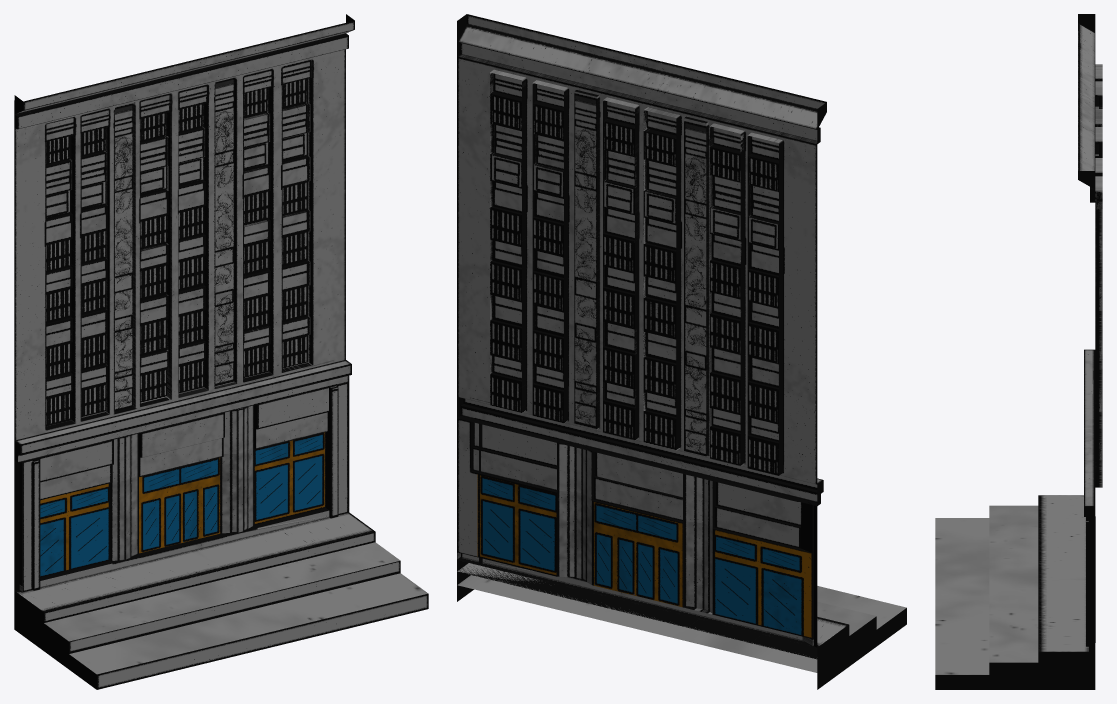
Rendered from building1.obj.
3 views of the same model, side by side, from view 1: azimuth 30°, elevation 25°; view 2: azimuth 150°, elevation 25°; view 3: azimuth 270°, elevation 25° (orthographic). The views are drawn at different scales.
Parts seen in each view (by area): view 1: Plane; view 2: Plane; view 3: Plane.
Boxes of the visible parts, x1=… form: Plane: x1=14, y1=14, x2=428, y2=689; Plane: x1=457, y1=14, x2=906, y2=689; Plane: x1=935, y1=14, x2=1102, y2=689.
Size of the model in its own units: 3.24 by 5 by 1.46.
